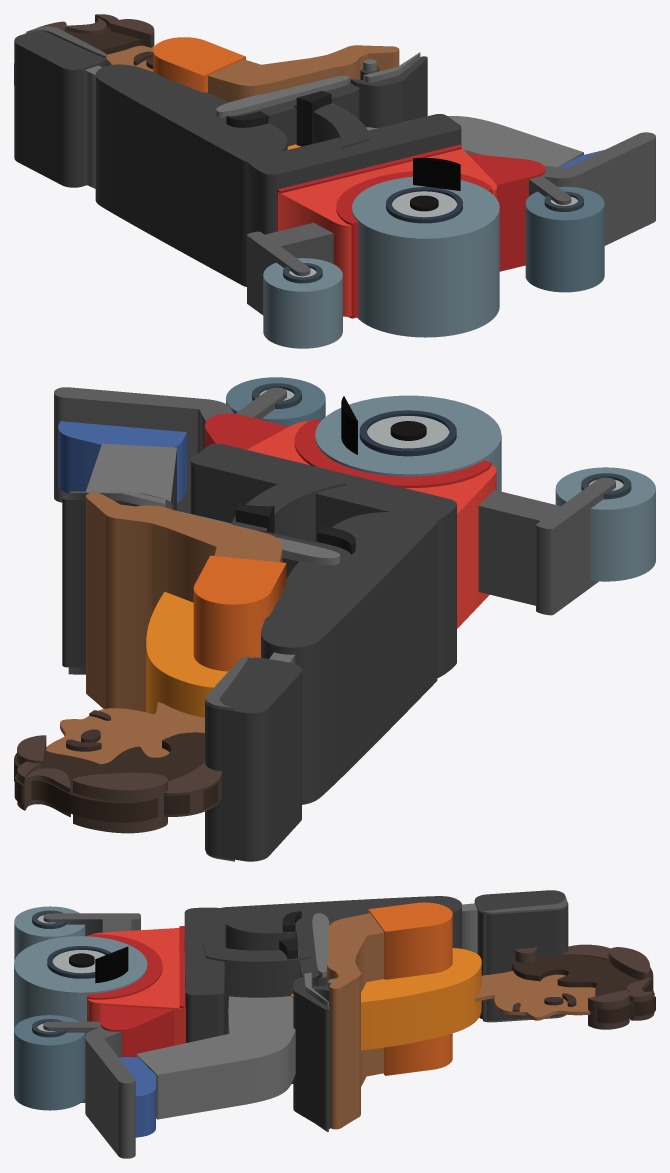
File: emoji_u1f9d1_1f3fe_200d_1f9bc_200d_27a1.glb
The picture shows the model from 3 angles, top to bottom: view 1: azimuth 30°, elevation 25°; view 2: azimuth 150°, elevation 25°; view 3: azimuth 270°, elevation 25°; orthographic projection. The views are drawn at different scales.
Visible parts, largest first — view 1: emoji_u1f9d1_1f3fe_200d_1f9bc_200d_27a1; view 2: emoji_u1f9d1_1f3fe_200d_1f9bc_200d_27a1; view 3: emoji_u1f9d1_1f3fe_200d_1f9bc_200d_27a1.
Boxes of the visible parts, box(x1,y1,x2,y2) form: emoji_u1f9d1_1f3fe_200d_1f9bc_200d_27a1: box(14, 14, 655, 348); emoji_u1f9d1_1f3fe_200d_1f9bc_200d_27a1: box(14, 377, 655, 861); emoji_u1f9d1_1f3fe_200d_1f9bc_200d_27a1: box(14, 890, 655, 1158).
Bounding box in the file's own units: 0.0236 × 0.0084 × 0.0339.
